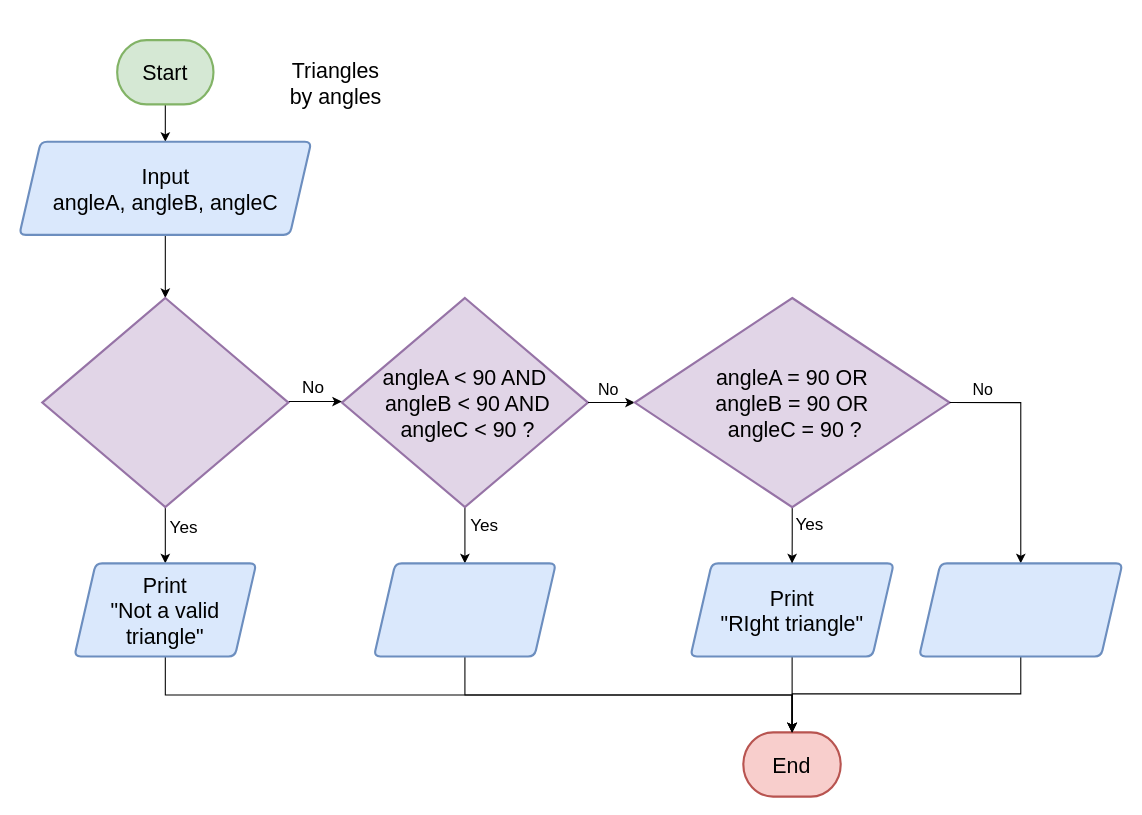
Image size: 1142x815. Some labels were removed from this diagram. Here are the shapes that lost their labels. From the top down, the centre of each, then its label:
the point at 165,402: angleA + angleB + angleC ≠ 180 ?
the point at 464,609: Print "Acute triangle"
the point at 1020,609: Print "Obtuse triangle"
